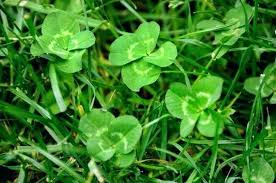4-clover: (166, 75, 228, 140), (111, 22, 175, 84), (33, 12, 95, 72), (79, 107, 140, 167)
